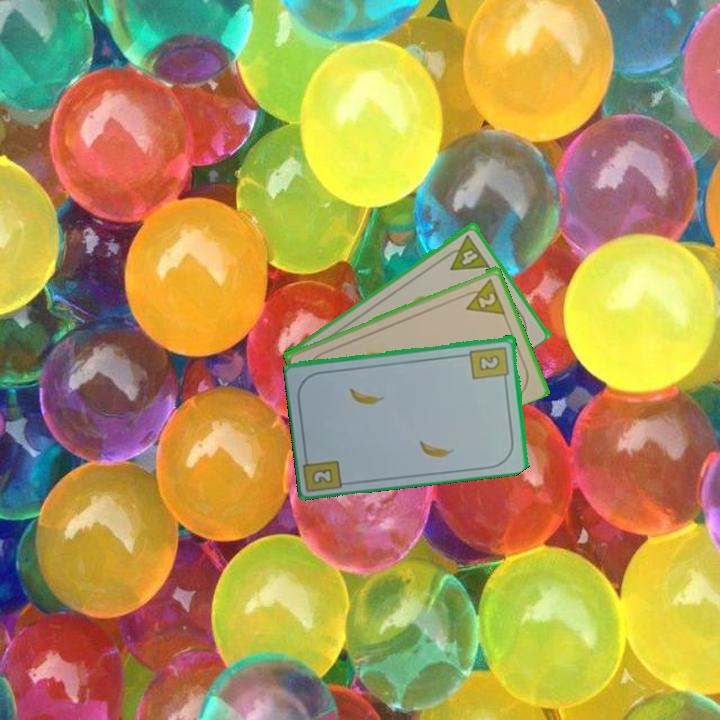2b: (467, 343, 512, 385), (308, 465, 336, 487)
2p: (458, 275, 508, 317)
4p: (440, 231, 492, 273)
